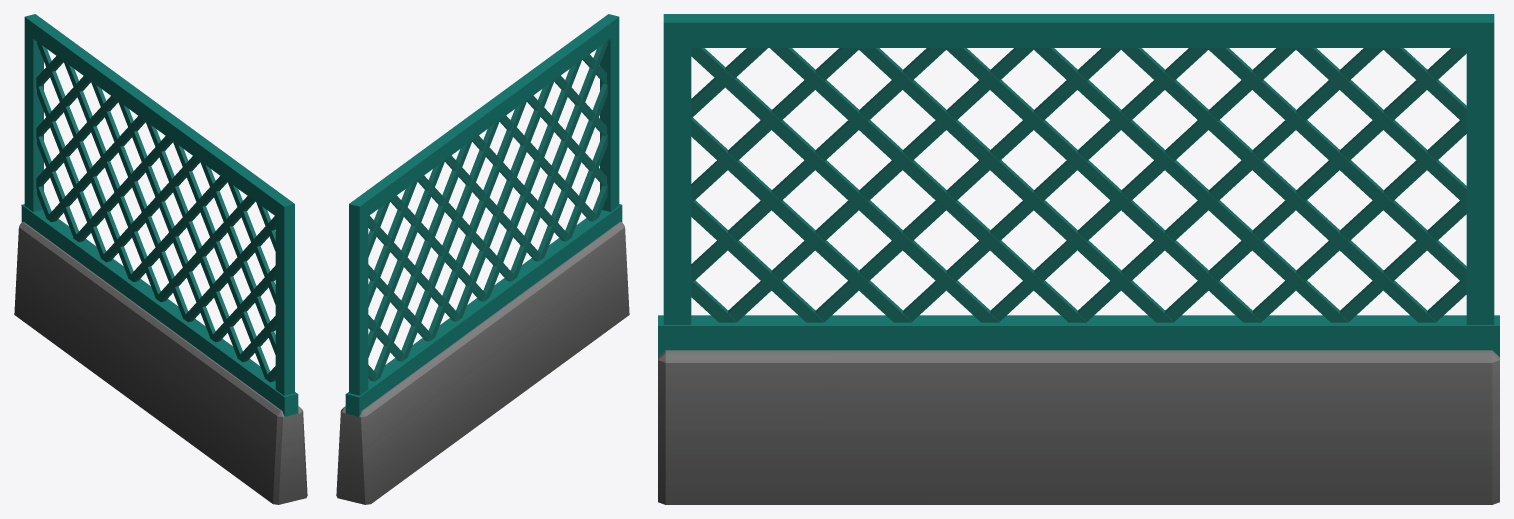
The model's file is Fence_1_E_6.glb.
3 renders of one model, left to right at view 1: azimuth 30°, elevation 25°; view 2: azimuth 150°, elevation 25°; view 3: azimuth 270°, elevation 25°, orthographic. The views are drawn at different scales.
Visible parts, largest first — view 1: Fence_1_E_6; view 2: Fence_1_E_6; view 3: Fence_1_E_6.
Part boxes in pixels (box(x1,y1,x2,y2)): Fence_1_E_6: box(14, 14, 307, 504); Fence_1_E_6: box(336, 14, 629, 504); Fence_1_E_6: box(658, 14, 1499, 504).
Bounding box in the file's own units: 0.3052 × 2.48 × 4.
Materials: 2 (2 with a texture image).
